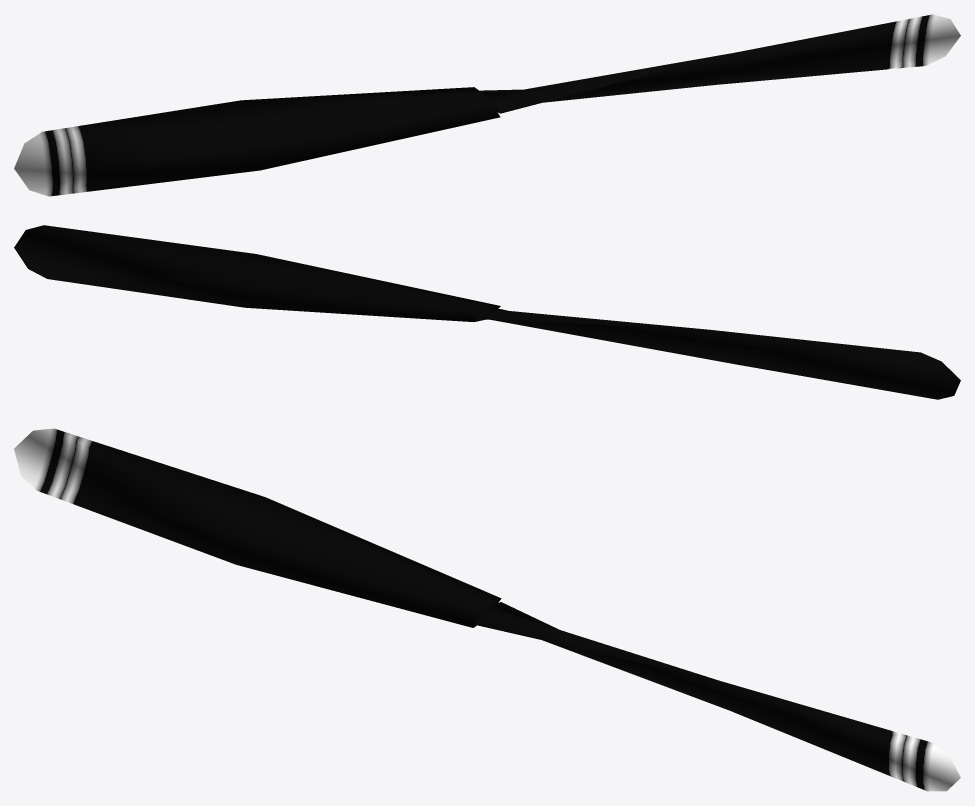
Rendered from aft_main_propeller.glb.
3 renders of one model, top to bottom at view 1: azimuth 30°, elevation 25°; view 2: azimuth 150°, elevation 25°; view 3: azimuth 330°, elevation 25°, orthographic.
Parts seen in each view (by area): view 1: prop_engine_2; view 2: prop_engine_2; view 3: prop_engine_2.
Part boxes in pixels (box(x1,y1,x2,y2)): prop_engine_2: box(14, 14, 960, 196); prop_engine_2: box(14, 225, 960, 399); prop_engine_2: box(14, 428, 960, 791).
Bounding box in the file's own units: 2.46 × 0.3593 × 0.123.
Materials: 1 (1 with a texture image).
